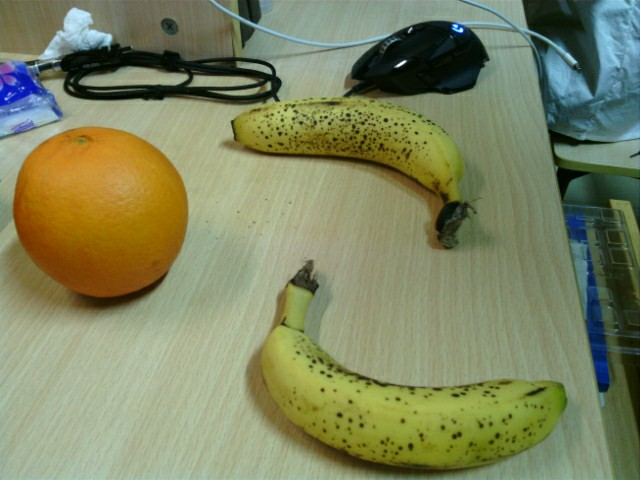normal_banana: (260, 259, 568, 468), (230, 97, 477, 251)
normal_orange: (14, 126, 189, 297)
